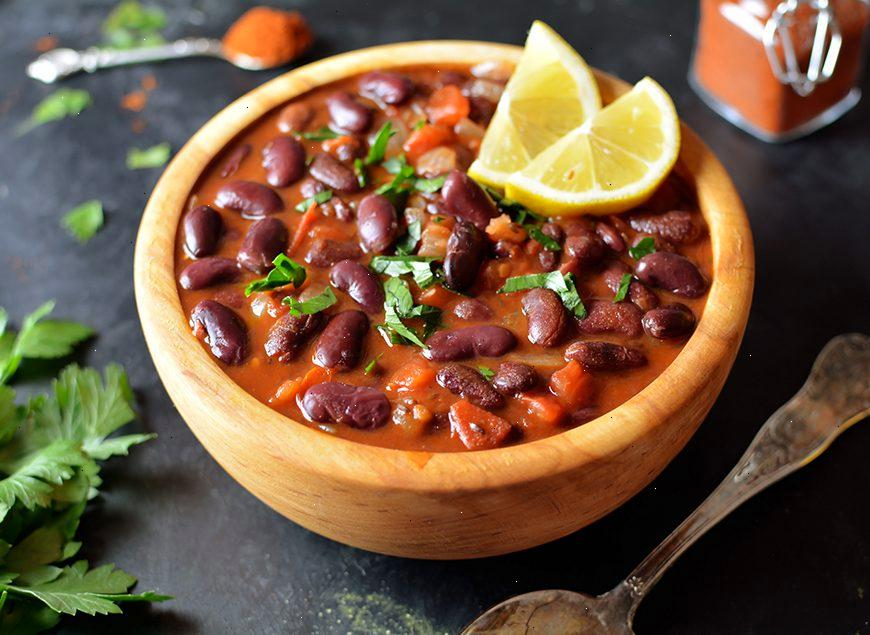rajma: (222, 77, 748, 463)
